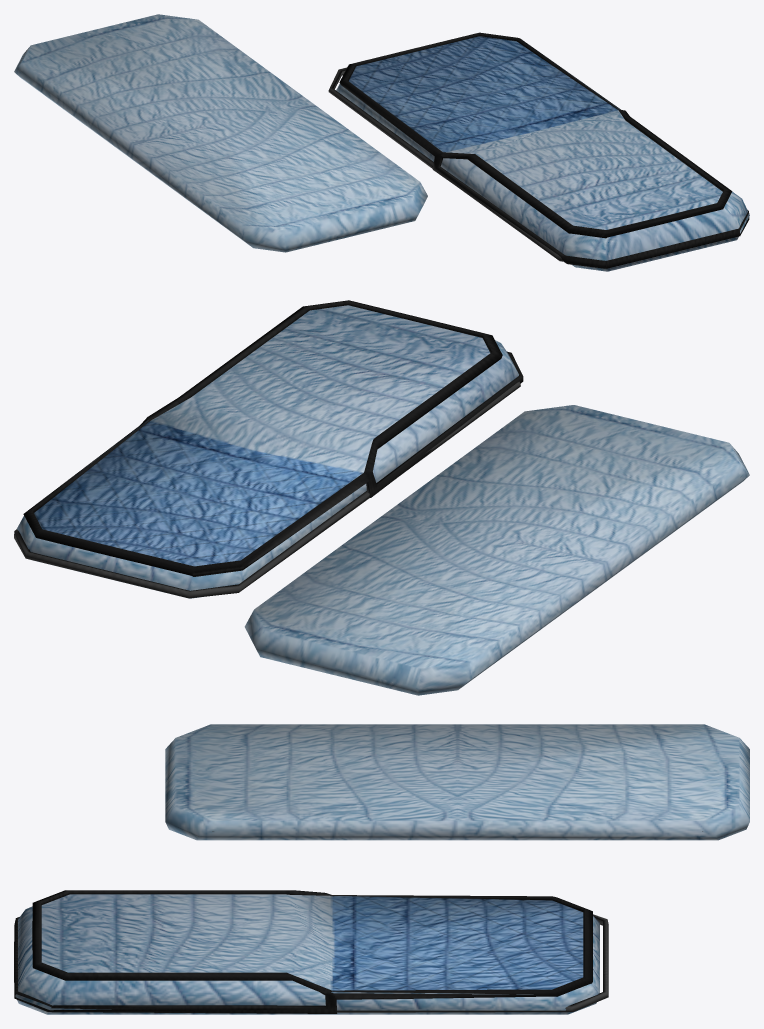
Rendered from SleepingBags_White.obj.
The picture shows the model from 3 angles, top to bottom: view 1: azimuth 30°, elevation 25°; view 2: azimuth 150°, elevation 25°; view 3: azimuth 270°, elevation 25°; orthographic projection. The views are drawn at different scales.
Parts seen in each view (by area): view 1: Cube.030_Material.006, Cube.029_Material.006, Cube.001_Material.002, Cube.032_Material.007; view 2: Cube.030_Material.006, Cube.029_Material.006, Cube.001_Material.002, Cube.032_Material.007; view 3: Cube.030_Material.006, Cube.029_Material.006, Cube.001_Material.002, Cube.032_Material.007.
Part boxes in pixels (x1,y1,x2,y2): Cube.030_Material.006: [14, 14, 427, 252]; Cube.029_Material.006: [336, 36, 749, 271]; Cube.001_Material.002: [339, 32, 749, 268]; Cube.032_Material.007: [328, 67, 563, 261]; Cube.030_Material.006: [244, 405, 749, 695]; Cube.029_Material.006: [17, 305, 518, 598]; Cube.001_Material.002: [23, 300, 523, 576]; Cube.032_Material.007: [14, 381, 520, 598]; Cube.030_Material.006: [165, 724, 749, 840]; Cube.029_Material.006: [15, 894, 599, 1014]; Cube.001_Material.002: [14, 890, 592, 1013]; Cube.032_Material.007: [337, 914, 608, 1012].
Size of the model in its own units: 2 by 0.224 by 2.6.
